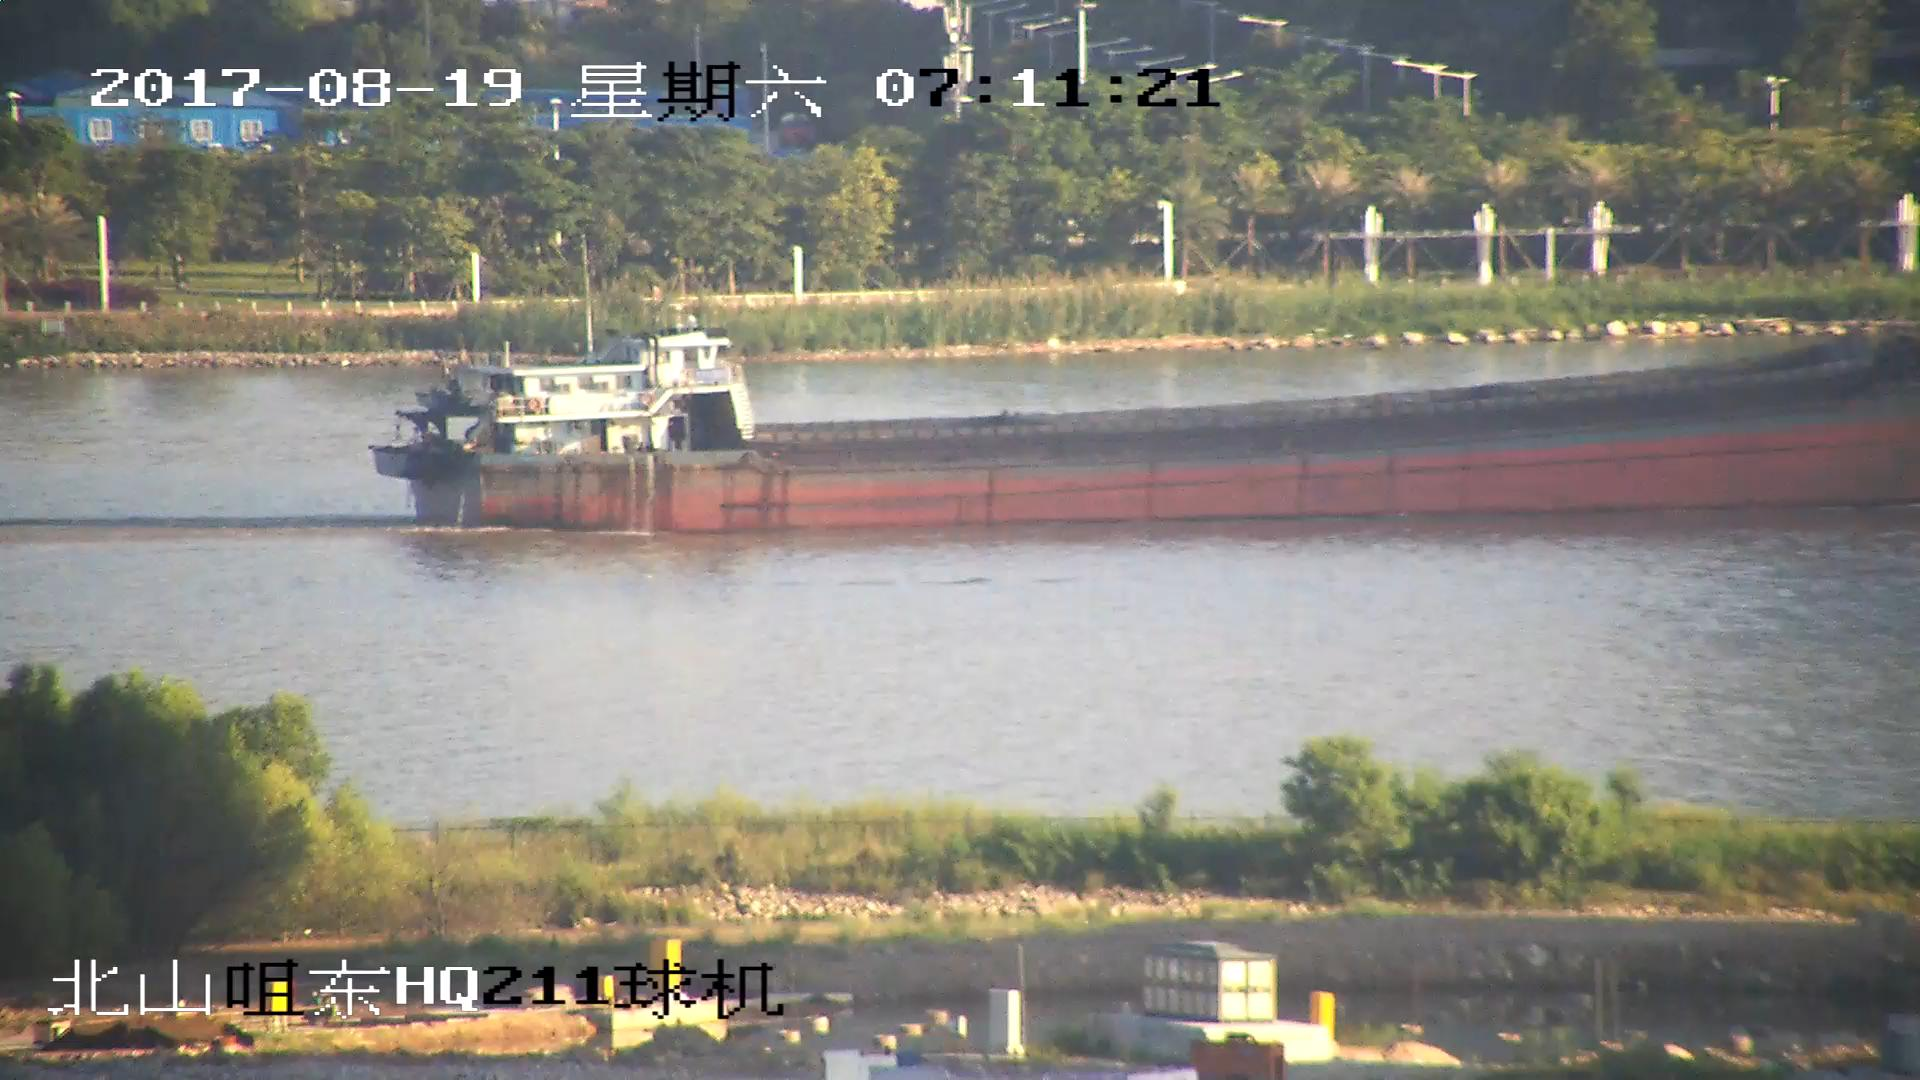bulk cargo carrier: (366, 300, 1920, 538)
